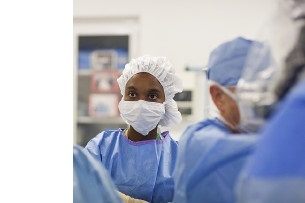Mask: (118, 80, 172, 133)
